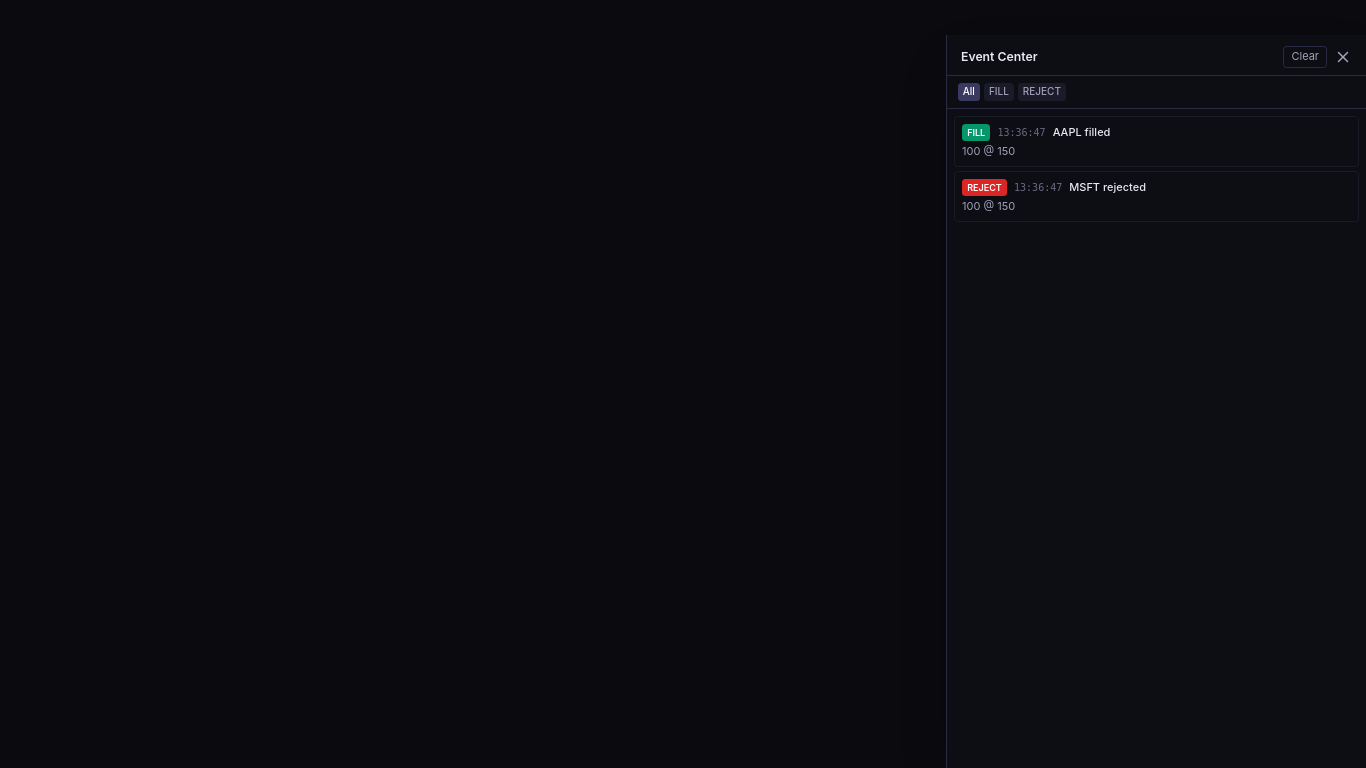
Test: EventCenter (§20.2) › filters entries by kind
The width and height of the screenshot is (1366, 768).
Expected: the text "AAPL filled" is shown, [1053, 125, 1110, 139]
What coordinates should you click on to do the following:
click the button "REJECT"
I would click on:
 (1042, 92)
Its box is [1018, 82, 1066, 101].
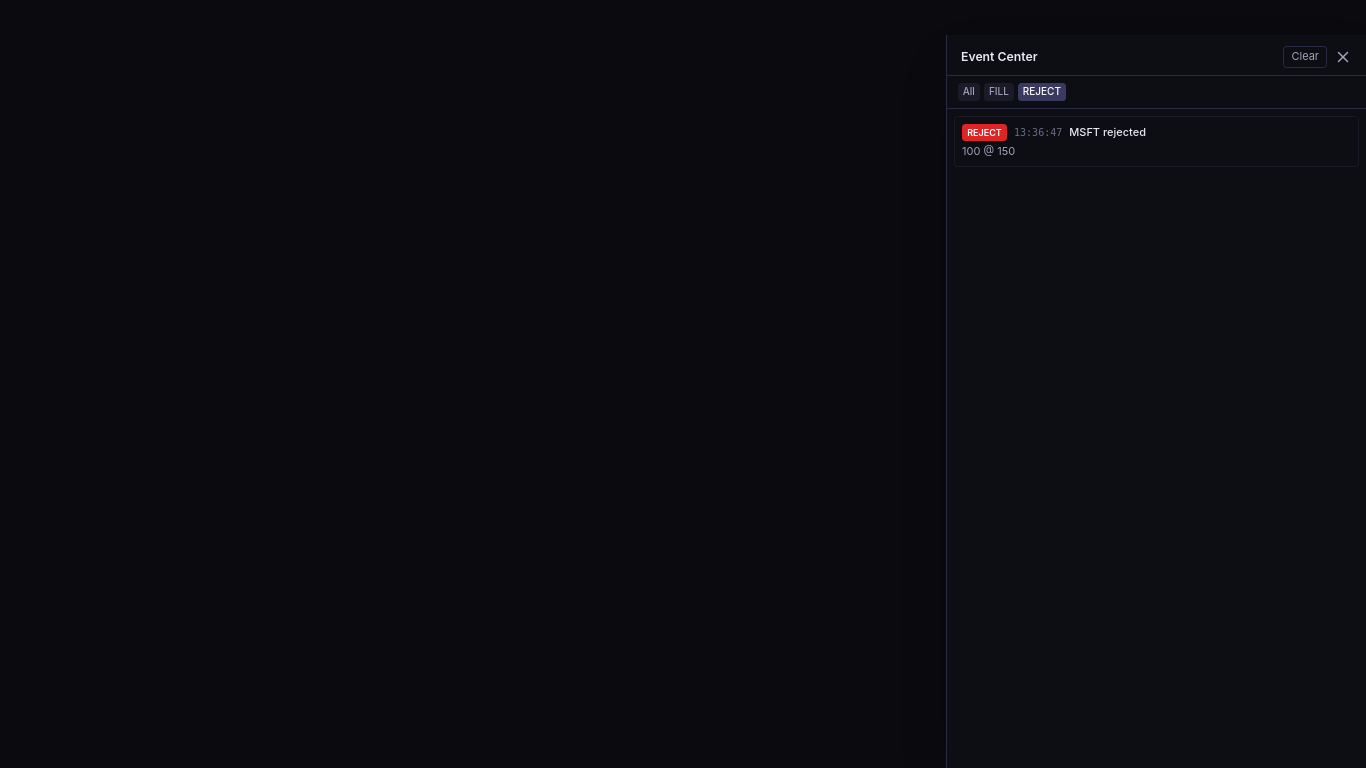
Expected: the text "MSFT rejected" is shown, [1069, 125, 1146, 139]
Expected: the text "AAPL filled" is gone
